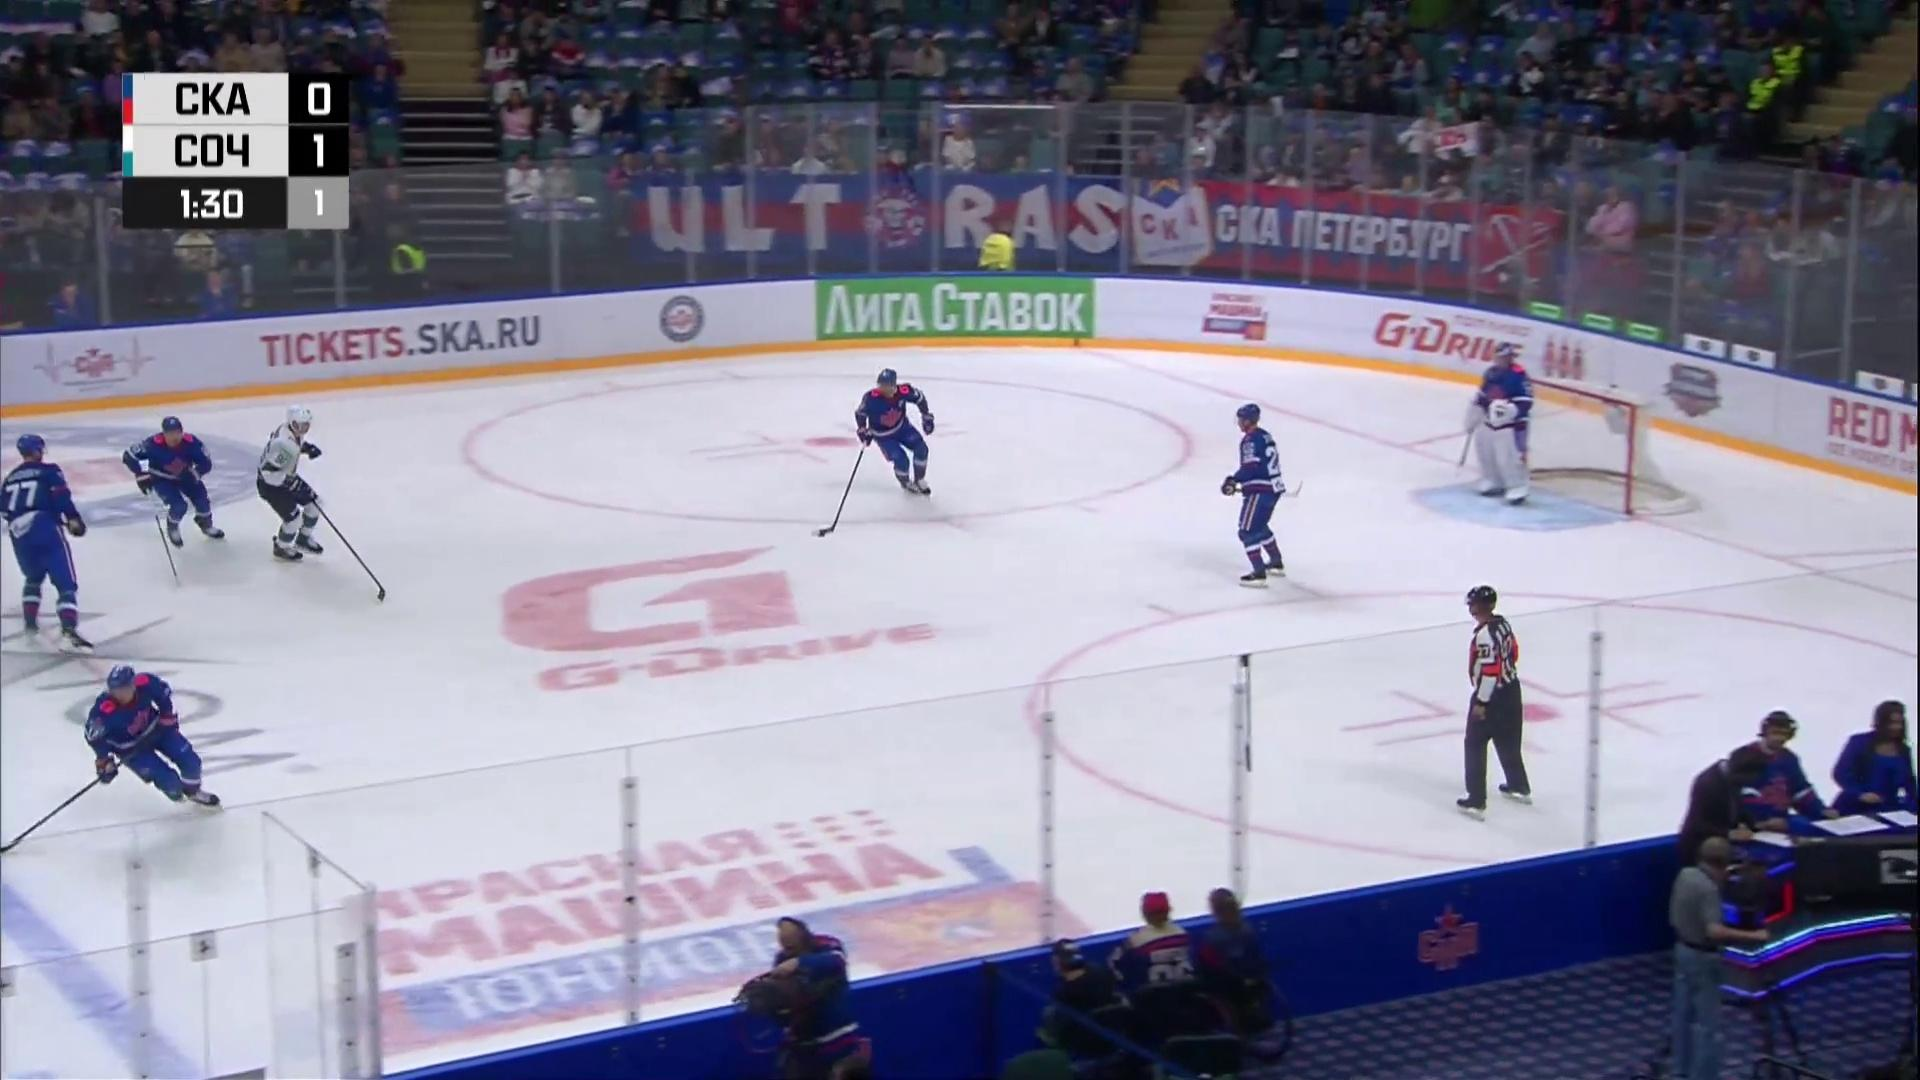ball: (818, 530, 825, 538)
